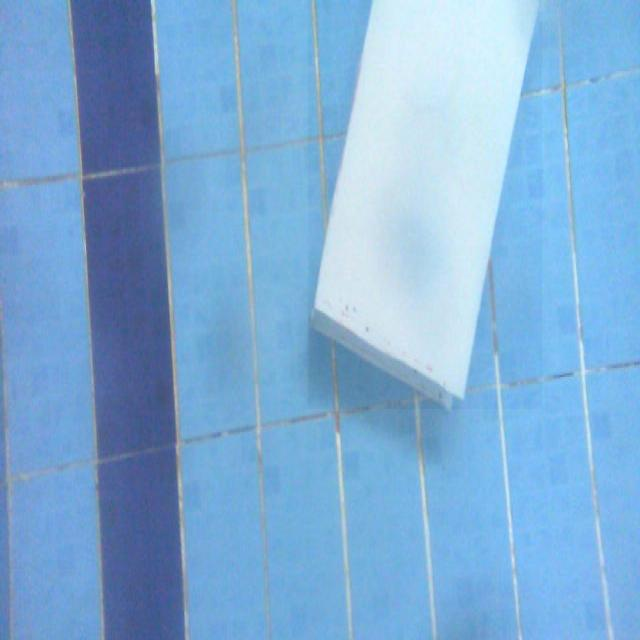Cuboid: (308, 0, 542, 409)
